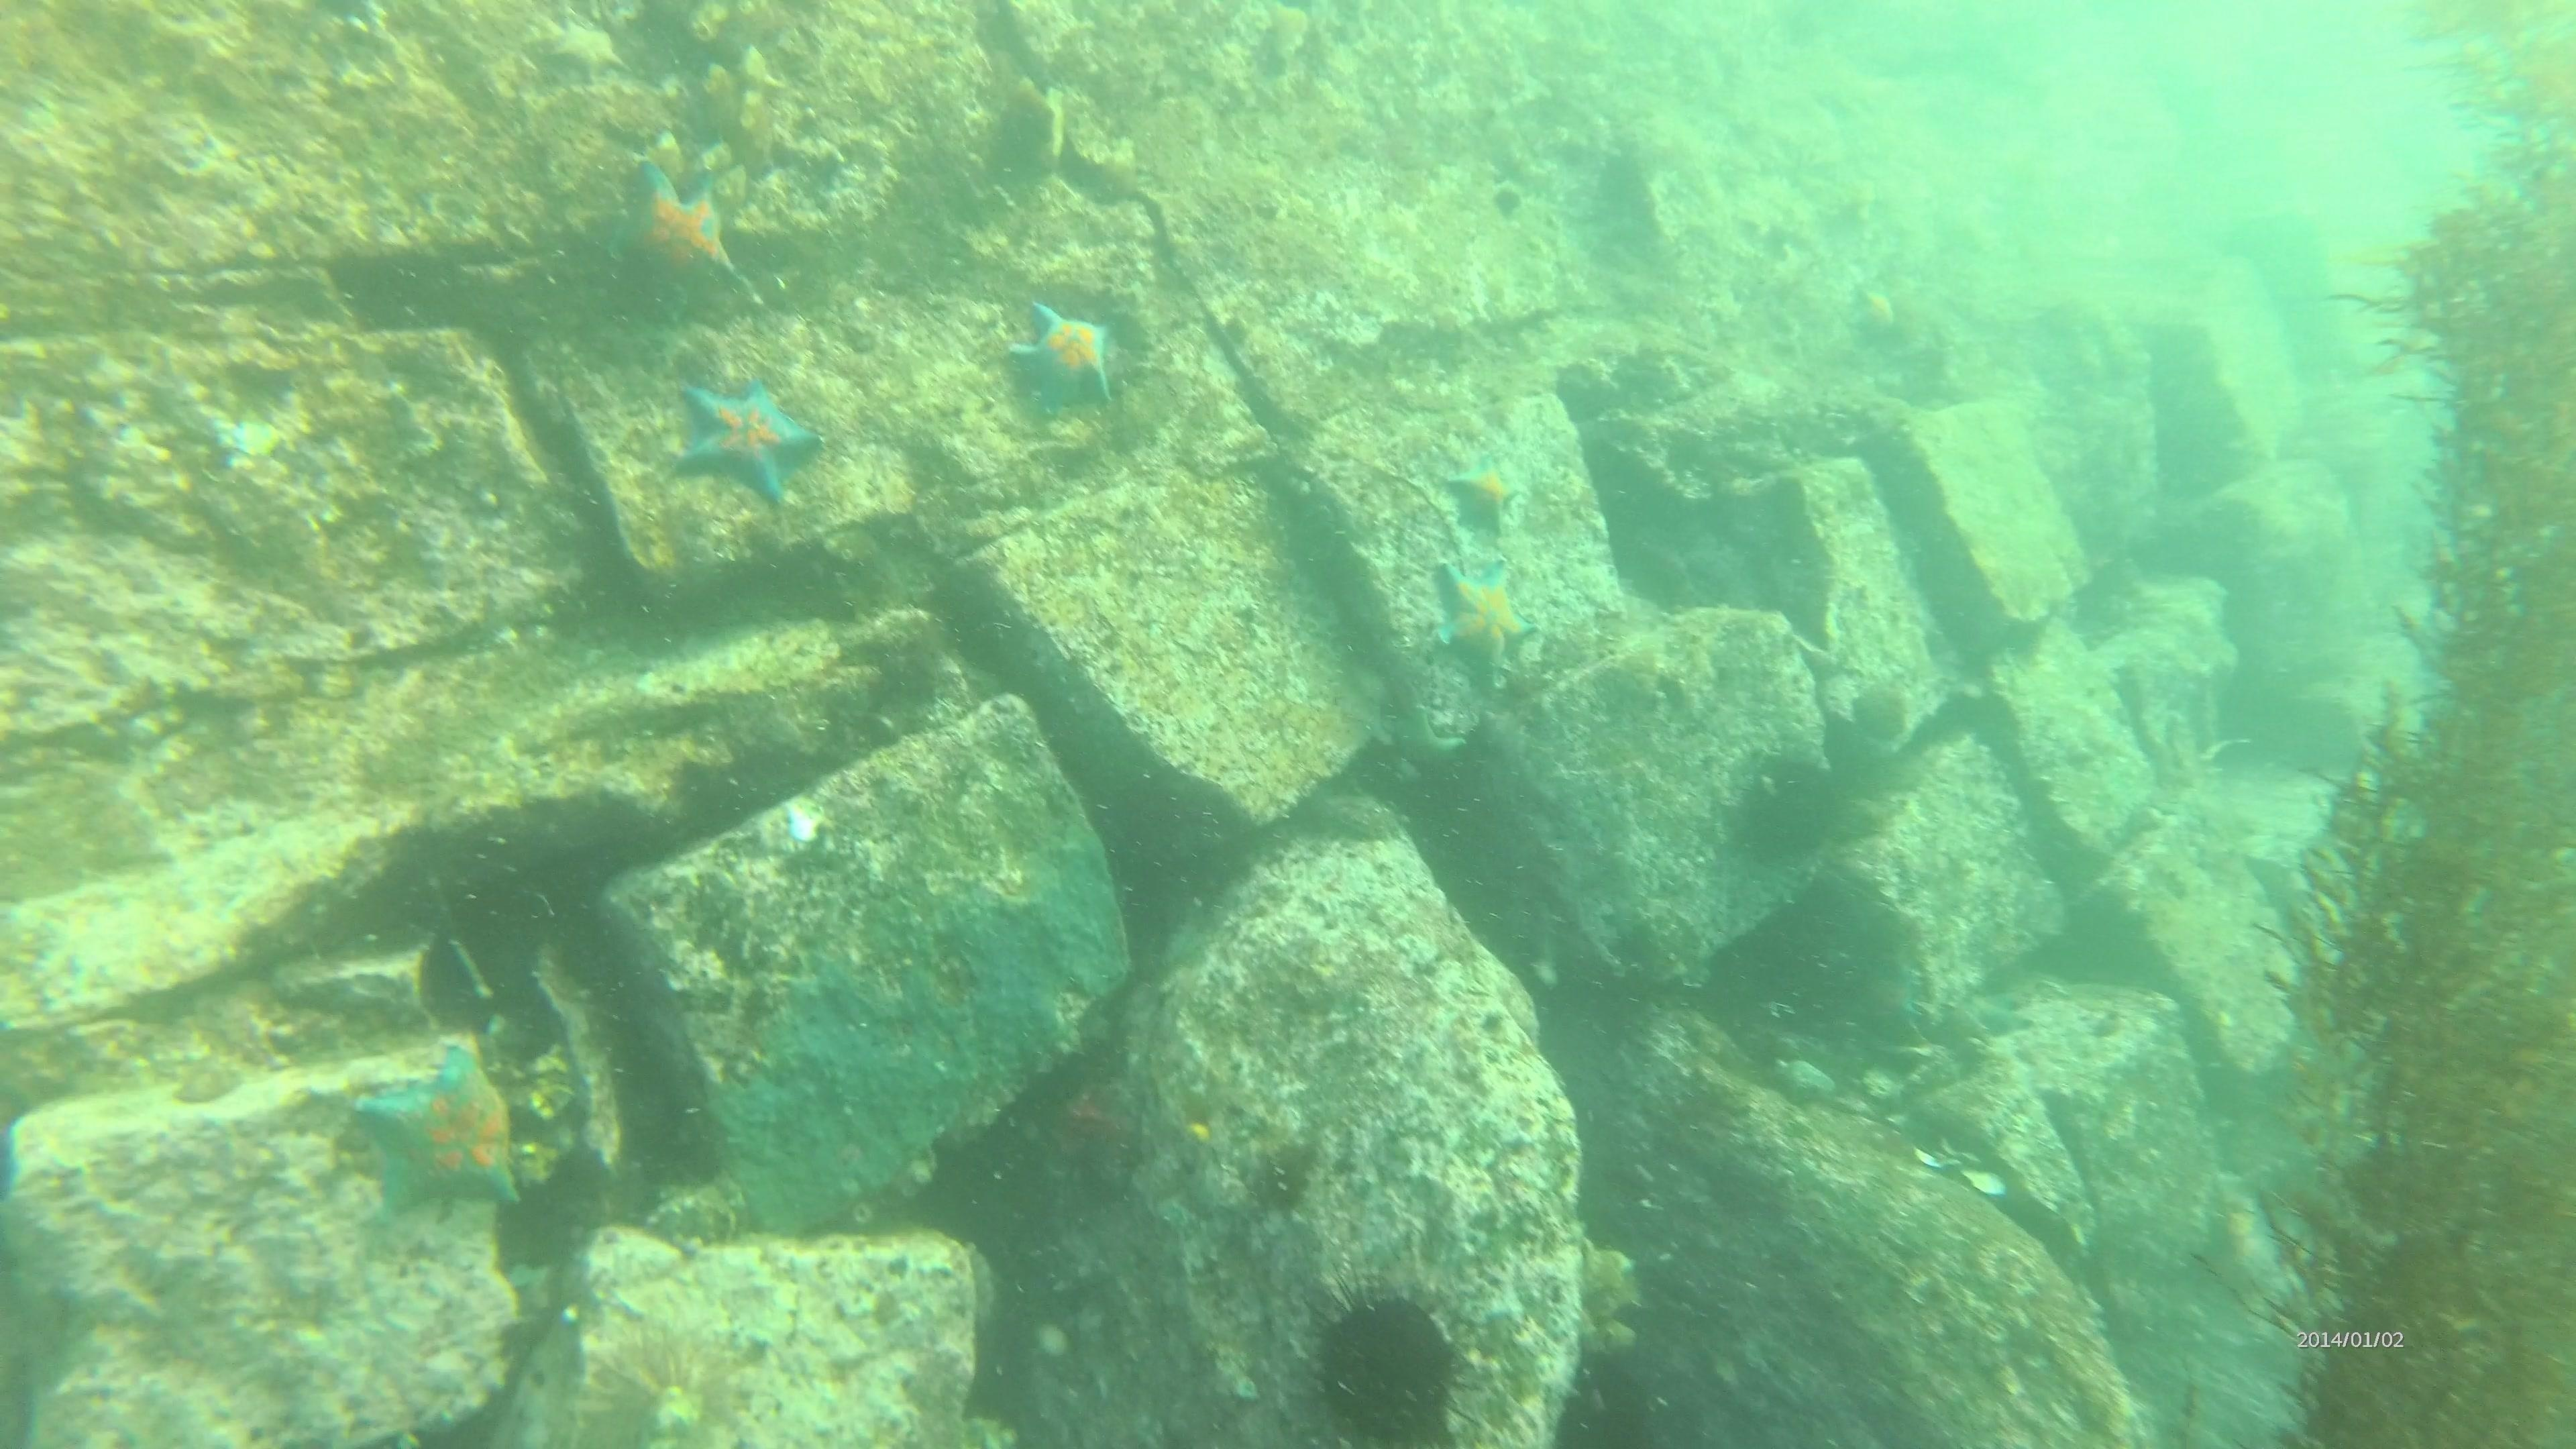echinus: (1297, 1277, 1477, 1444), (566, 1323, 770, 1444), (1720, 745, 1854, 874)
starfish: (341, 1039, 536, 1226), (665, 366, 828, 508), (609, 152, 750, 310), (1001, 292, 1139, 421), (1422, 552, 1541, 685), (1438, 446, 1529, 536)
